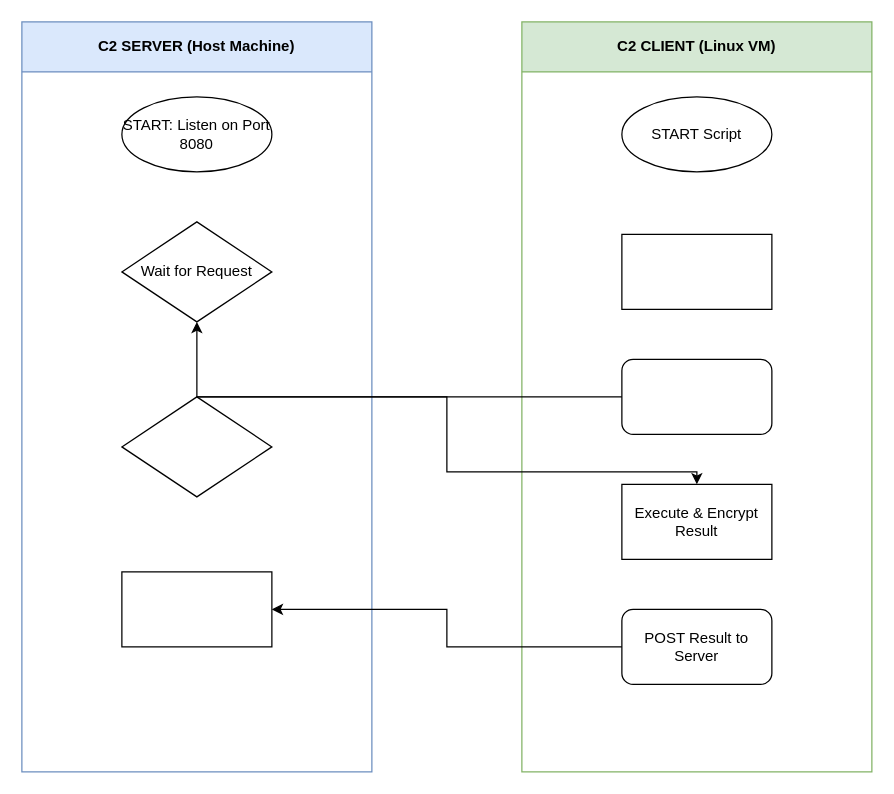
This 894x794 diagram has some shape labels left out. Here are the shapes that lost their labels. From the top down, the centre of each, then its label:
At (696,271): "Wait (Sleep + Jitter)".
At (696,396): "Send GET Beacon".
At (196,446): "Task in Queue?".
At (196,609): "Log Results to File".
